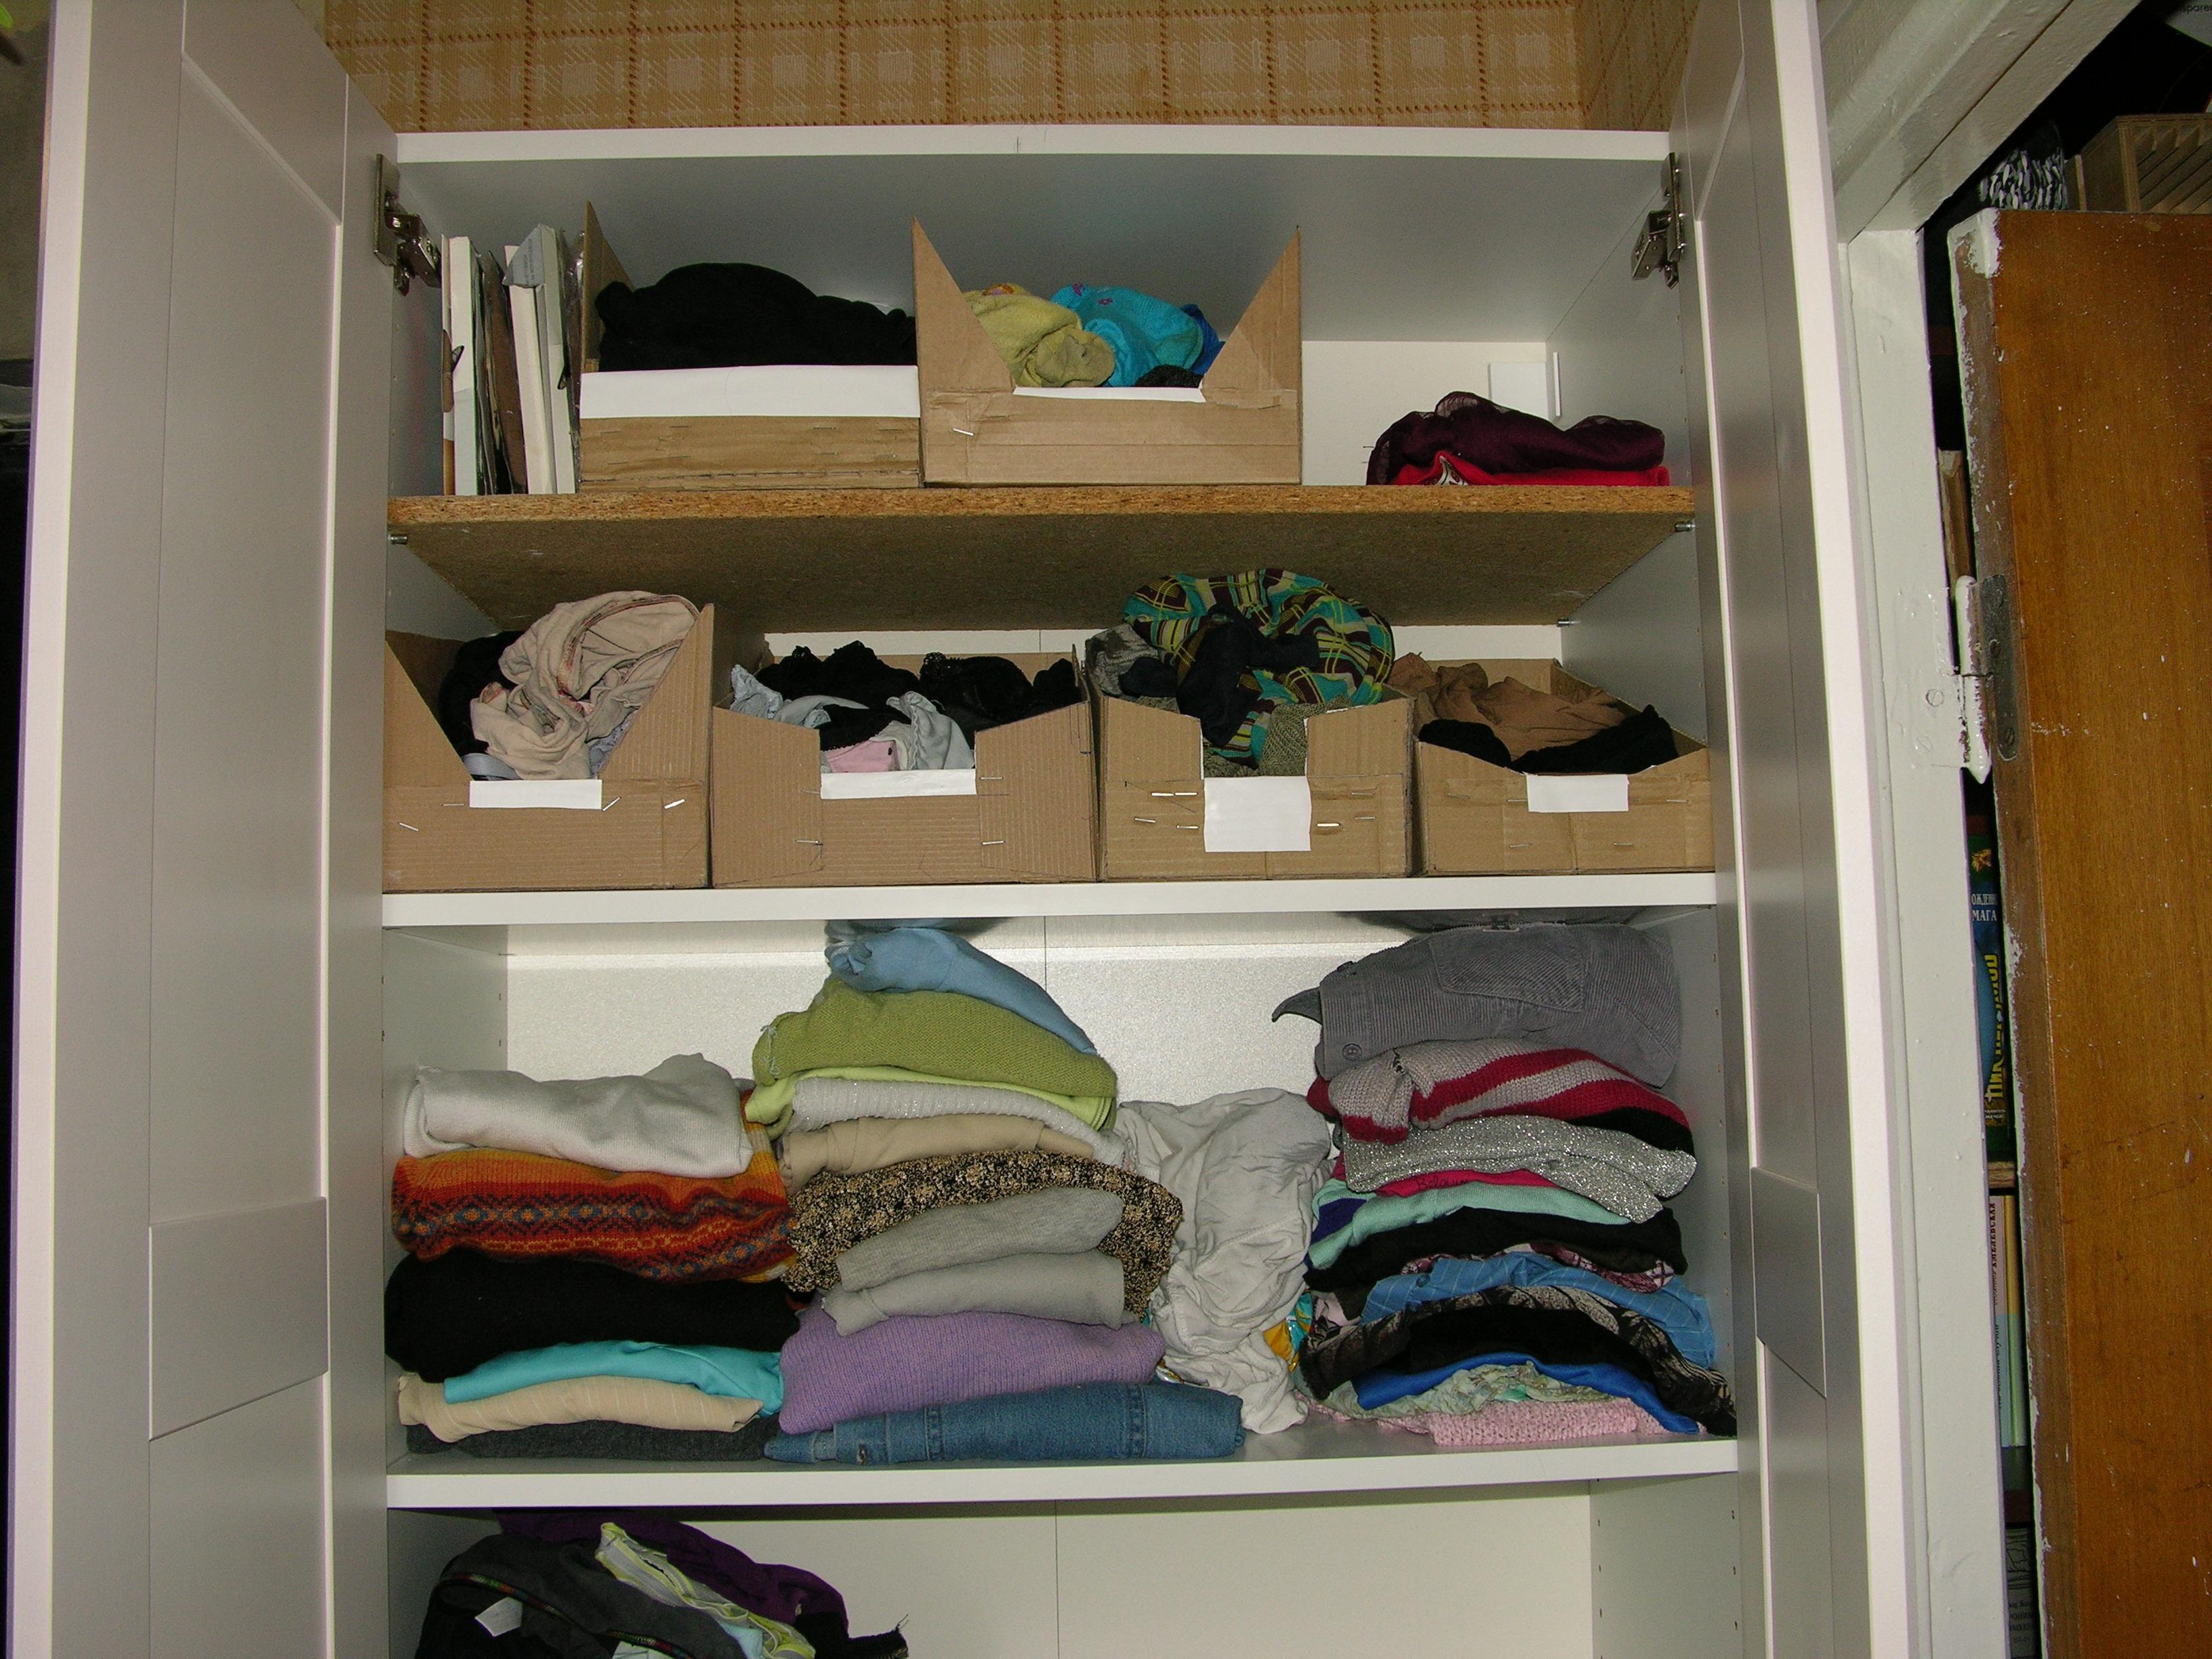Rak: (369, 127, 1764, 1659)
